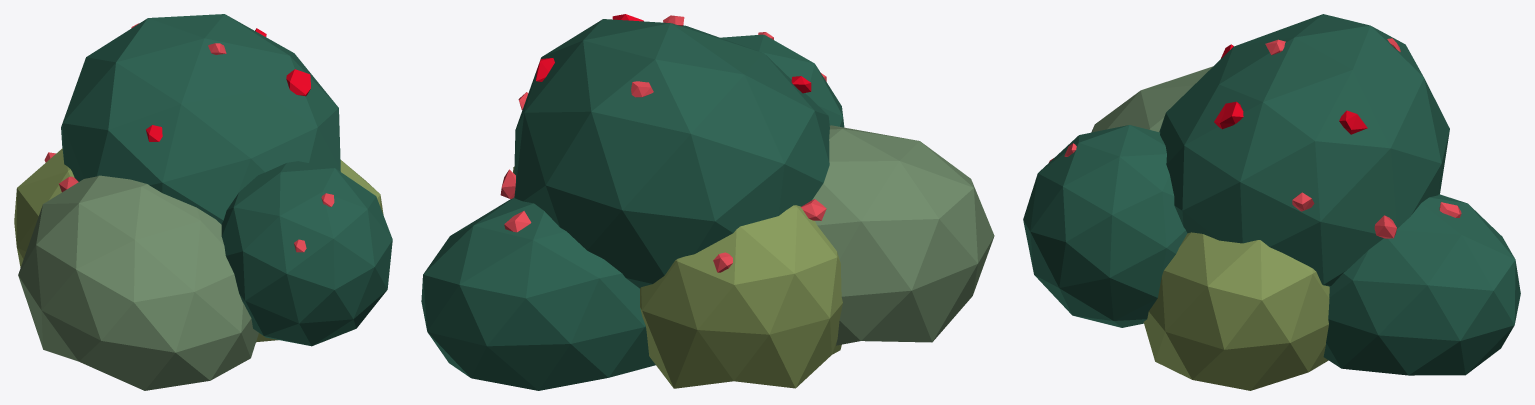
File: lipa_b1.fbx
3 renders of one model, left to right at view 1: azimuth 30°, elevation 25°; view 2: azimuth 150°, elevation 25°; view 3: azimuth 270°, elevation 25°, orthographic. The views are drawn at different scales.
Parts seen in each view (by area): view 1: Icosphere.007, Icosphere.010, Icosphere.008, Icosphere.012, Icosphere.009, Icosphere.033; view 2: Icosphere.007, Icosphere.011, Icosphere.010, Icosphere.012, Icosphere.008; view 3: Icosphere.007, Icosphere.011, Icosphere.008, Icosphere.009, Icosphere.010, Icosphere.033, Icosphere.034.
Boxes of the visible parts, x1=… form: Icosphere.007: x1=61, y1=14, x2=340, y2=224; Icosphere.010: x1=18, y1=175, x2=258, y2=390; Icosphere.008: x1=221, y1=161, x2=392, y2=346; Icosphere.012: x1=14, y1=148, x2=74, y2=267; Icosphere.009: x1=256, y1=159, x2=383, y2=342; Icosphere.033: x1=286, y1=69, x2=310, y2=96; Icosphere.007: x1=514, y1=19, x2=829, y2=288; Icosphere.011: x1=421, y1=197, x2=655, y2=390; Icosphere.010: x1=812, y1=125, x2=994, y2=345; Icosphere.012: x1=640, y1=205, x2=842, y2=388; Icosphere.008: x1=720, y1=34, x2=844, y2=127; Icosphere.007: x1=1159, y1=14, x2=1449, y2=286; Icosphere.011: x1=1323, y1=194, x2=1520, y2=375; Icosphere.008: x1=1023, y1=125, x2=1187, y2=327; Icosphere.009: x1=1143, y1=232, x2=1329, y2=390; Icosphere.010: x1=1091, y1=66, x2=1212, y2=132; Icosphere.033: x1=1214, y1=101, x2=1243, y2=129; Icosphere.034: x1=1339, y1=110, x2=1367, y2=134.
Size of the model in its own units: 225 by 158 by 245.
